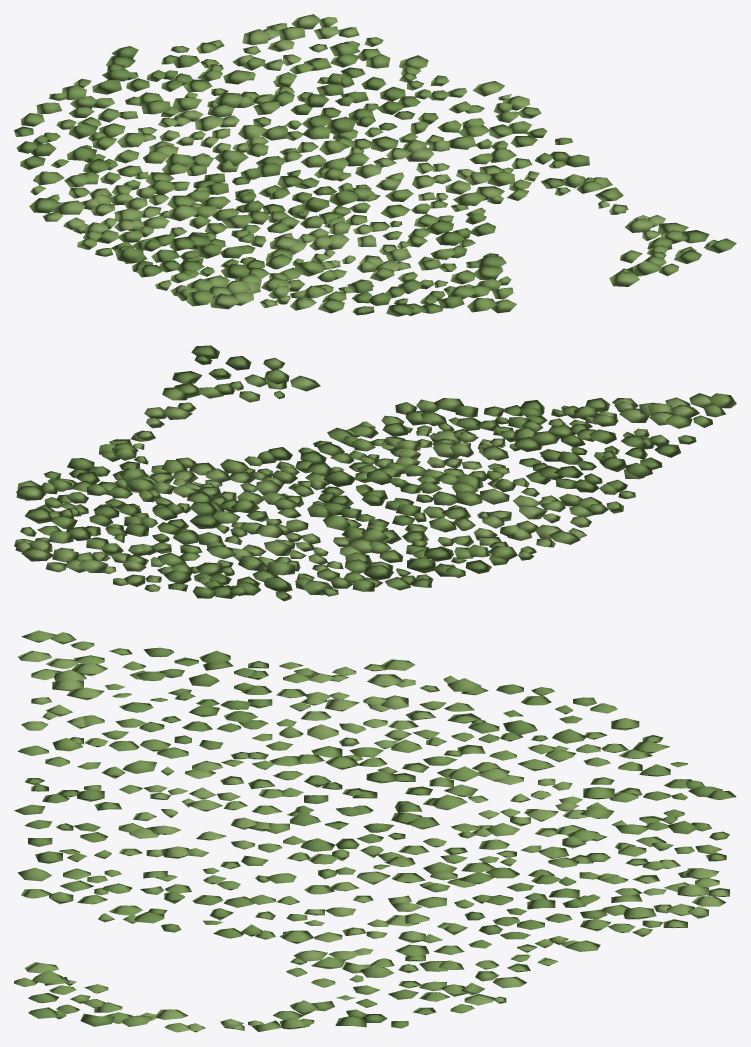
Rendered from canopy-1--5--6.glb.
3 views of the same model, one above another, from view 1: azimuth 30°, elevation 25°; view 2: azimuth 150°, elevation 25°; view 3: azimuth 270°, elevation 25° (orthographic). The views are drawn at different scales.
Size of the model in its own units: 512 by 95 by 518.
1 material, 1 textured.
